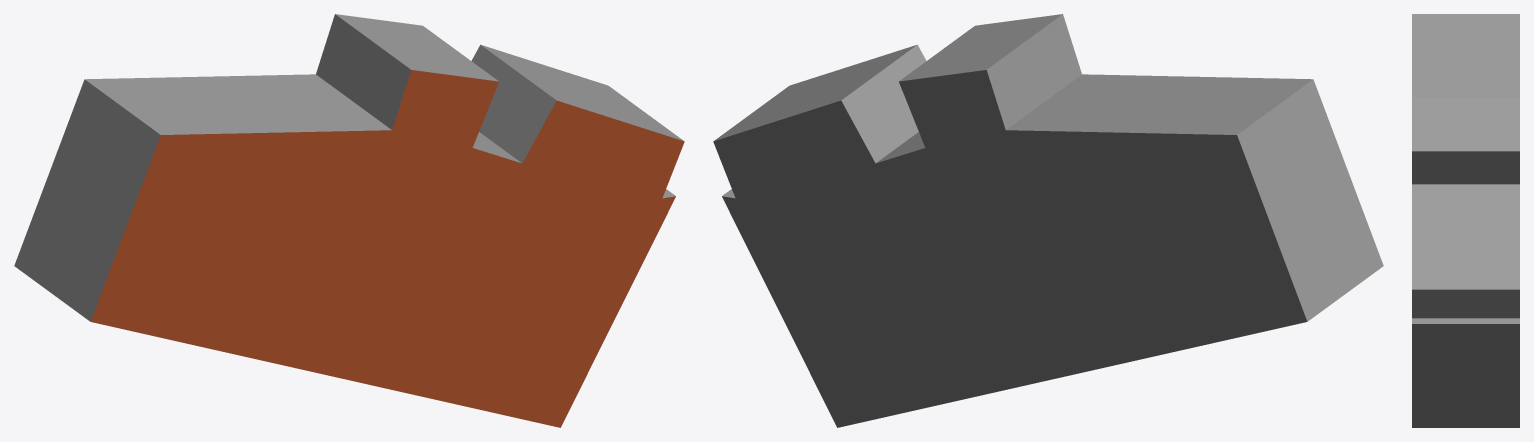
Rendered from construction_3430_assumed_A_Casa_h6m.obj.
3 views of the same model, side by side, from view 1: azimuth 30°, elevation 25°; view 2: azimuth 150°, elevation 25°; view 3: azimuth 270°, elevation 25° (orthographic). The views are drawn at different scales.
Visible parts, largest first — view 1: construction_3430_assumed_A_Casa; view 2: construction_3430_assumed_A_Casa; view 3: construction_3430_assumed_A_Casa.
Boxes of the visible parts, <box> form: construction_3430_assumed_A_Casa: <box>14,14,684,427</box>; construction_3430_assumed_A_Casa: <box>713,14,1383,427</box>; construction_3430_assumed_A_Casa: <box>1412,14,1519,427</box>.
Bounding box in the file's own units: 26.97 × 17.11 × 6.
